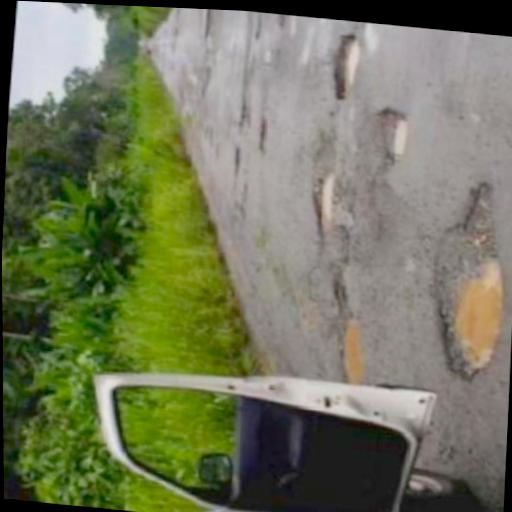pothole: (431, 182, 506, 382), (371, 106, 409, 166), (331, 33, 361, 101), (340, 316, 367, 384), (312, 176, 336, 238)
